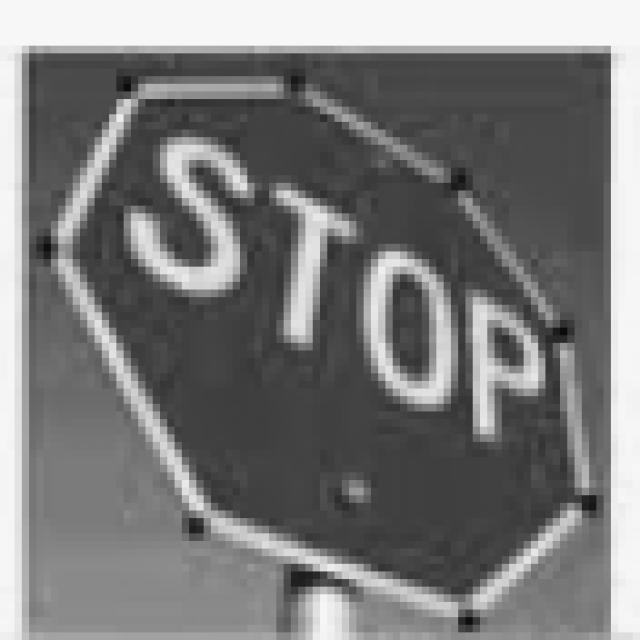Stop-signs: (44, 82, 590, 613)
